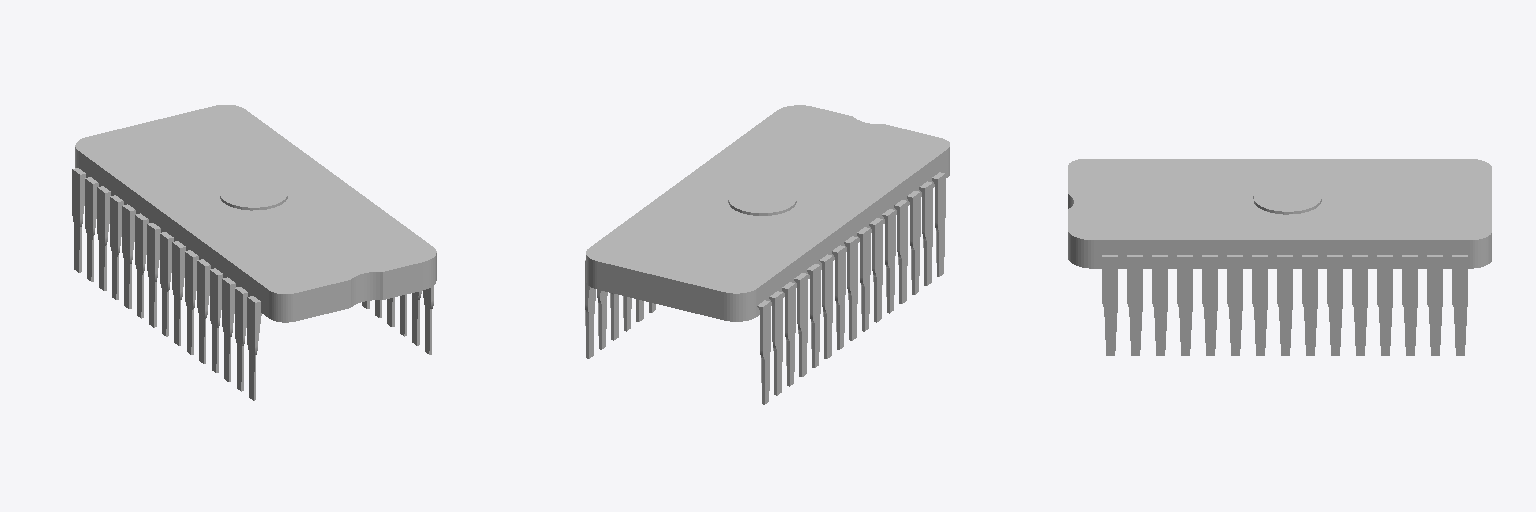
Rendered from ROM.obj.
The picture shows the model from 3 angles: view 1: azimuth 30°, elevation 25°; view 2: azimuth 150°, elevation 25°; view 3: azimuth 270°, elevation 25°; orthographic projection.
Visible parts, largest first — view 1: Mesh1 Model, Mesh27 Model, Mesh29 Model, Mesh18 Model, Mesh31 Model, Mesh26 Model, Mesh20 Model, Mesh24 Model, Mesh22 Model, Mesh28 Model, Mesh30 Model, Mesh19 Model (+4 smaller); view 2: Mesh1 Model, Mesh19 Model, Mesh25 Model, Mesh21 Model, Mesh23 Model, Mesh30 Model, Mesh18 Model, Mesh28 Model, Mesh29 Model, Mesh31 Model, Mesh20 Model, Mesh26 Model (+5 smaller); view 3: Mesh1 Model, Mesh2 Model, Mesh4 Model, Mesh6 Model, Mesh7 Model, Mesh9 Model, Mesh12 Model, Mesh3 Model, Mesh5 Model, Mesh8 Model, Mesh11 Model, Mesh14 Model (+4 smaller).
Part boxes in pixels (left/top/right/bottom): Mesh1 Model: left=75, top=105, right=436, bottom=322; Mesh27 Model: left=72, top=168, right=85, bottom=272; Mesh29 Model: left=97, top=186, right=110, bottom=290; Mesh18 Model: left=147, top=223, right=160, bottom=327; Mesh31 Model: left=122, top=204, right=135, bottom=308; Mesh26 Model: left=247, top=296, right=261, bottom=400; Mesh20 Model: left=172, top=241, right=185, bottom=345; Mesh24 Model: left=222, top=277, right=235, bottom=381; Mesh22 Model: left=197, top=259, right=210, bottom=363; Mesh28 Model: left=85, top=177, right=98, bottom=281; Mesh30 Model: left=110, top=195, right=123, bottom=299; Mesh19 Model: left=160, top=232, right=173, bottom=336; Mesh1 Model: left=586, top=105, right=949, bottom=321; Mesh19 Model: left=844, top=236, right=857, bottom=340; Mesh25 Model: left=919, top=181, right=932, bottom=285; Mesh21 Model: left=869, top=218, right=882, bottom=322; Mesh23 Model: left=894, top=200, right=907, bottom=303; Mesh30 Model: left=794, top=273, right=807, bottom=376; Mesh18 Model: left=832, top=245, right=845, bottom=349; Mesh28 Model: left=769, top=291, right=782, bottom=395; Mesh29 Model: left=782, top=282, right=795, bottom=386; Mesh31 Model: left=807, top=264, right=820, bottom=367; Mesh20 Model: left=857, top=227, right=870, bottom=331; Mesh26 Model: left=932, top=172, right=945, bottom=276; Mesh1 Model: left=1068, top=159, right=1491, bottom=268; Mesh2 Model: left=1102, top=255, right=1117, bottom=355; Mesh4 Model: left=1152, top=255, right=1167, bottom=355; Mesh6 Model: left=1202, top=255, right=1217, bottom=355; Mesh7 Model: left=1227, top=255, right=1242, bottom=355; Mesh9 Model: left=1277, top=255, right=1292, bottom=355; Mesh12 Model: left=1402, top=255, right=1417, bottom=355; Mesh3 Model: left=1127, top=255, right=1142, bottom=355; Mesh5 Model: left=1177, top=255, right=1192, bottom=355; Mesh8 Model: left=1252, top=255, right=1267, bottom=355; Mesh11 Model: left=1327, top=255, right=1342, bottom=355; Mesh14 Model: left=1377, top=255, right=1392, bottom=355.
Bounding box in the file's own units: 0.6596 × 0.4207 × 1.36.